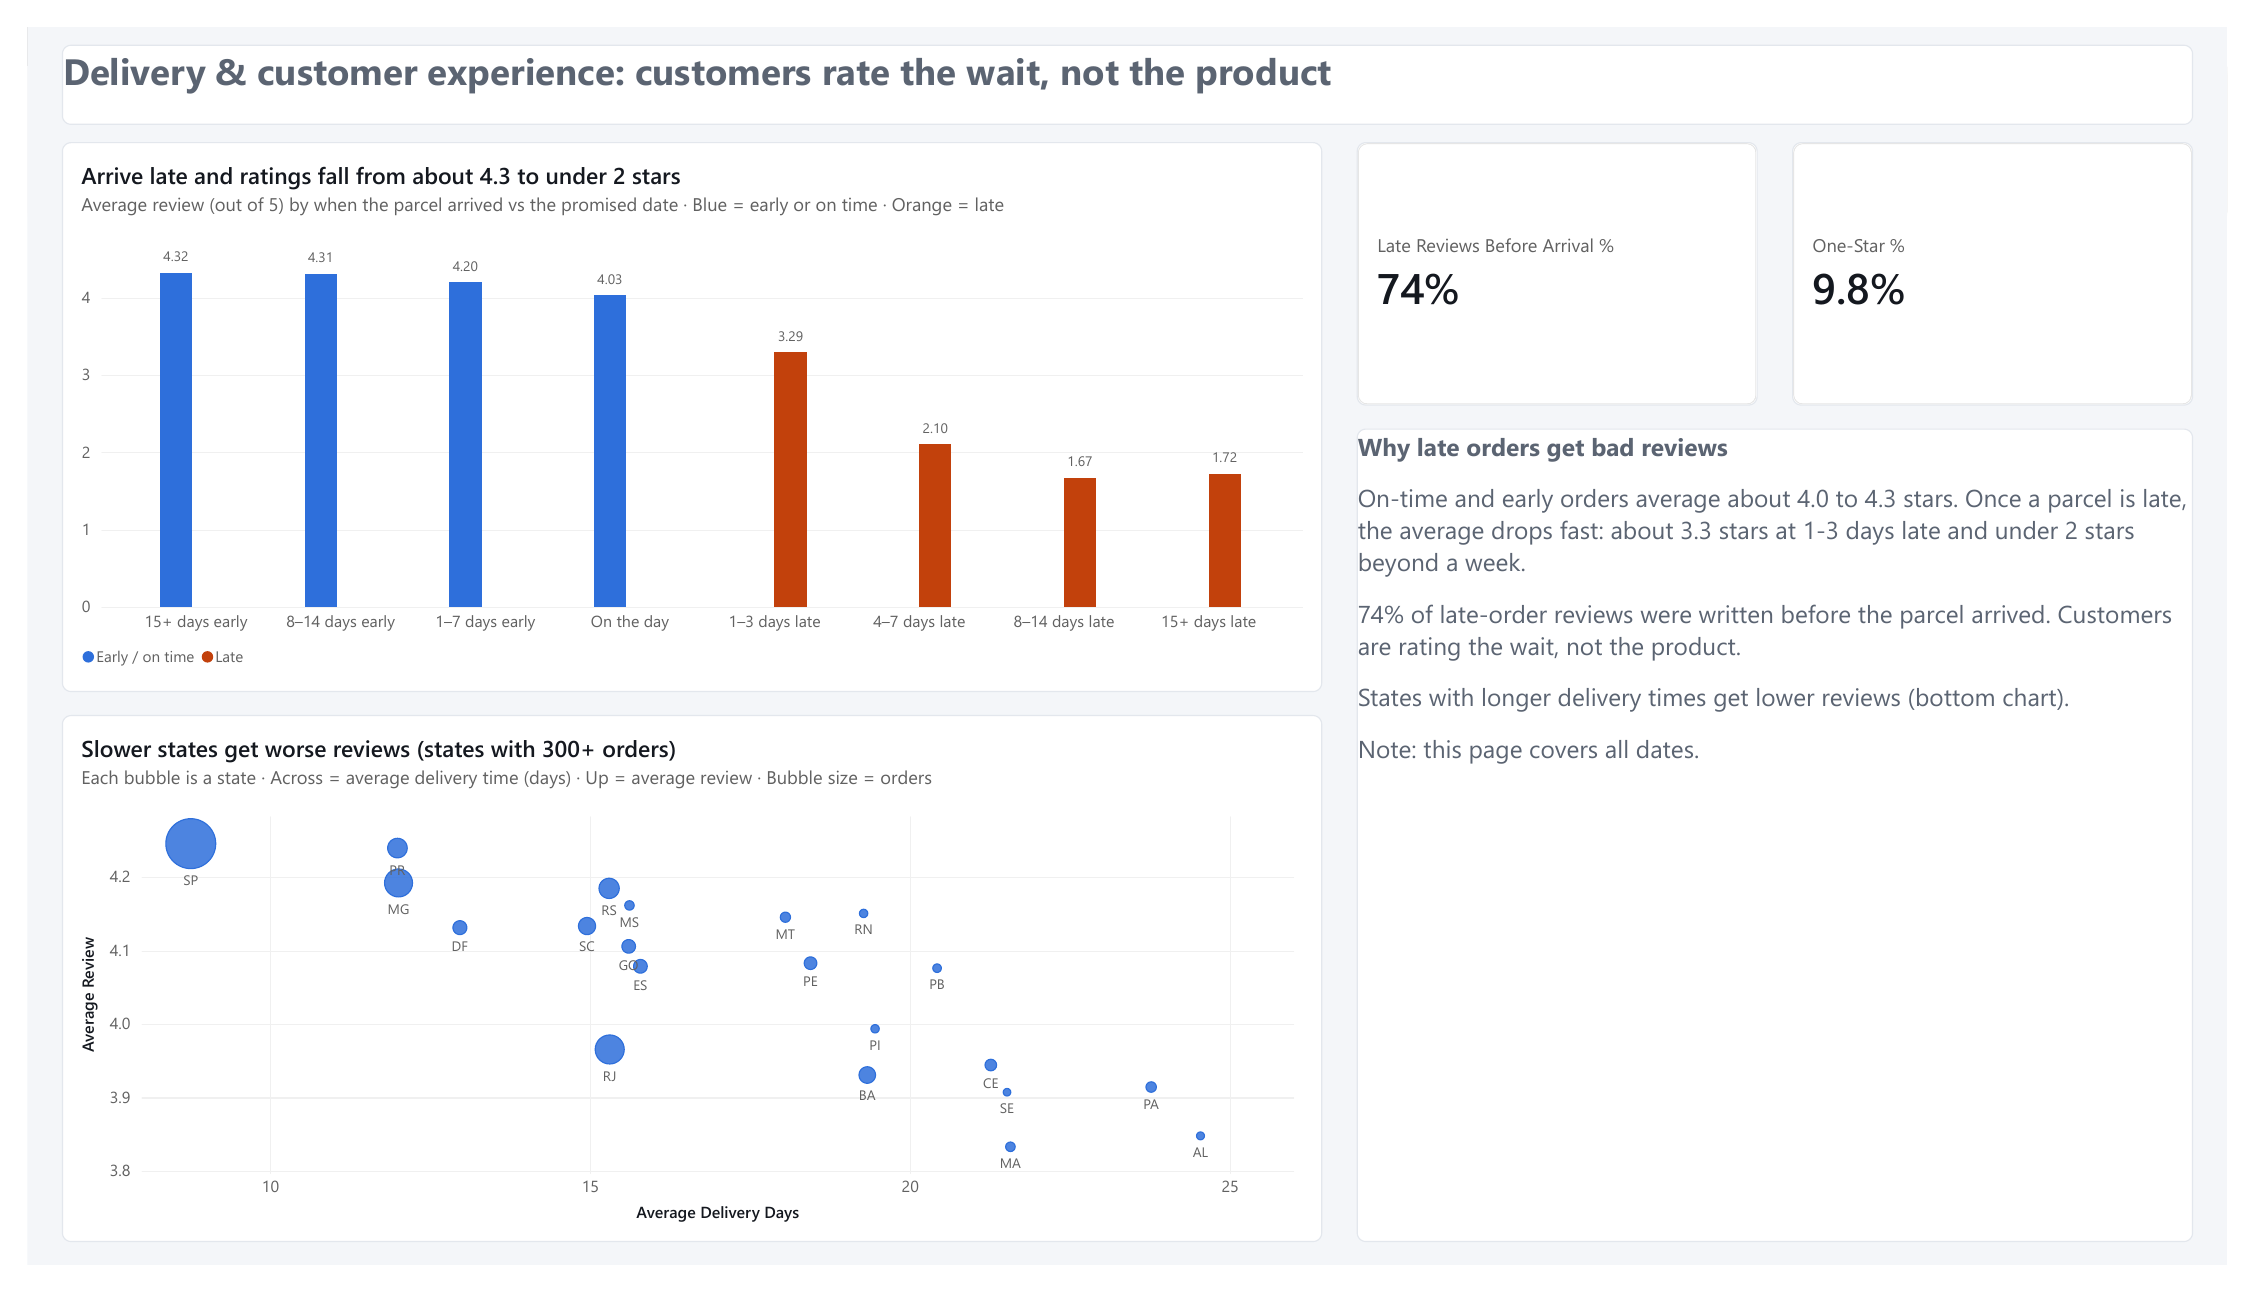

Layout of this report page (visuals, bound fields, positions):
{"tool":"powerbi","page":{"name":"Delivery & reviews","canvas":[1920,1080],"ordinal":1},"visuals":[{"type":"clusteredColumnChart","title":"Arrive late and ratings fall from about 4.3 to under 2 stars","fields":{"Category":["dim_timing.delivery_timing"],"Series":["dim_timing.timing_side"],"Y":["_Measures.Average Review"]},"box":[30,100,1100,480],"z":0},{"type":"cardVisual","fields":{"Data":["_Measures.Late Reviews Before Arrival %"]},"box":[1160,100,350,230],"z":1},{"type":"cardVisual","fields":{"Data":["_Measures.One-Star %"]},"box":[1540,100,350,230],"z":2},{"type":"scatterChart","title":"Slower states get worse reviews (states with 300+ orders)","fields":{"Category":["fact_orders.customer_state"],"Size":["_Measures.Delivered Orders"],"X":["_Measures.Average Delivery Days"],"Y":["_Measures.Average Review"]},"box":[30,600,1100,460],"z":3},{"type":"textbox","box":[1160,350,730,710],"z":4},{"type":"textbox","box":[30,15,1860,70],"z":5}]}

Visuals, with their boxes in screenshot pixels (x1, y1, x2, y2), scaled from the page's 1920x1080 canvas onto the 2255x1293 screenshot:
"Arrive late and ratings fall from about 4.3 to under 2 stars" clusteredColumnChart: 35:120:1327:694
cardVisual - _Measures.Late Reviews Before Arrival %: 1362:120:1773:395
cardVisual - _Measures.One-Star %: 1809:120:2220:395
"Slower states get worse reviews (states with 300+ orders)" scatterChart: 35:718:1327:1269
textbox: 1362:419:2220:1269
textbox: 35:18:2220:102
